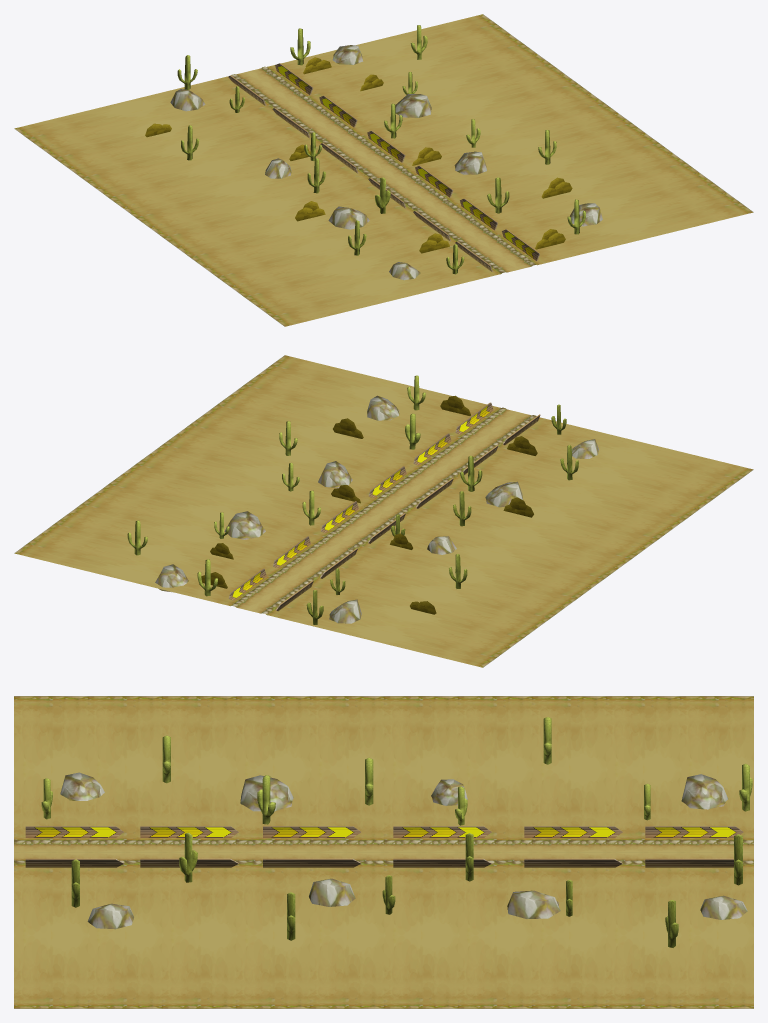
Rendered from DesertRoad01.FBX.
3 views of the same model, one above another, from view 1: azimuth 30°, elevation 25°; view 2: azimuth 150°, elevation 25°; view 3: azimuth 270°, elevation 25° (orthographic). The views are drawn at different scales.
Parts seen in each view (by area): view 1: Road (×2), Stone (×4); view 2: Road (×2), Stone (×6); view 3: Road (×2), Fence (×12), Stone (×8), Cactus (×2).
Part boxes in pixels (x1,y1,x2,y2): Road (×2): (14,14,753,326); Stone (×4): (170,89,486,229); Road (×2): (14,355,753,667); Stone (×6): (155,395,522,623); Road (×2): (14,696,753,1008); Fence (×12): (25,826,743,867); Stone (×8): (60,772,747,929); Cactus (×2): (179,775,275,882).
Bounding box in the file's own units: 10000 × 828 × 10000.
